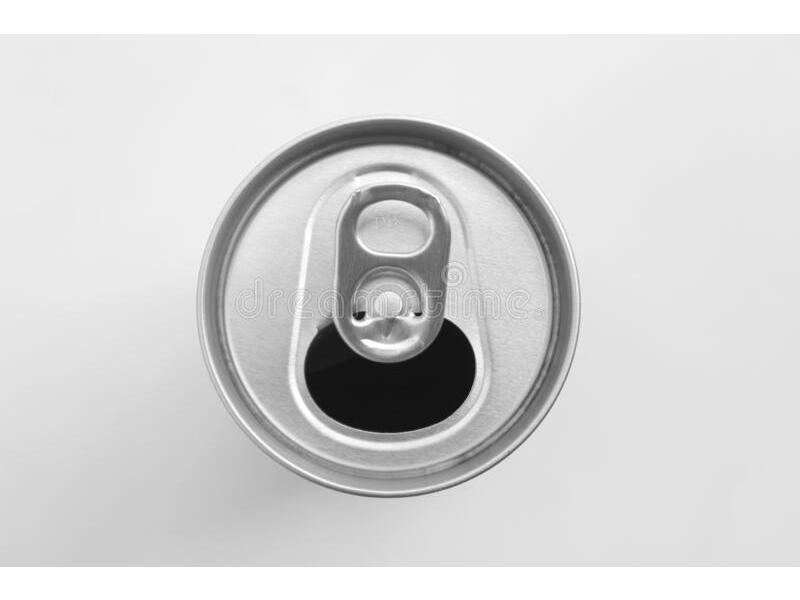can: (192, 109, 593, 501)
